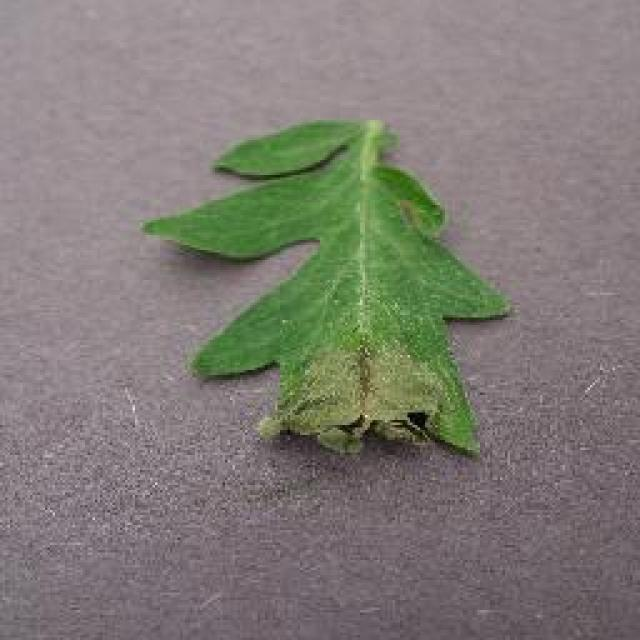Tomato Late Blight: (303, 310, 477, 467)
